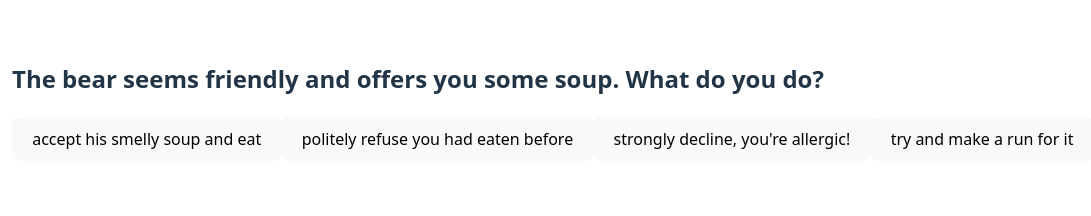
Scenario: Level2 Component › strongly declining is also a correct answer
Click the button "strongly decline, you're allergic!" at (732, 139), box [593, 117, 870, 160]
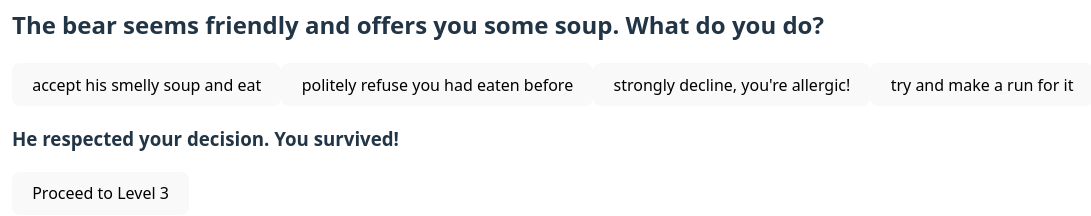
Now the heading "He respected your decision. You survived!" is shown, box [12, 126, 399, 151]
